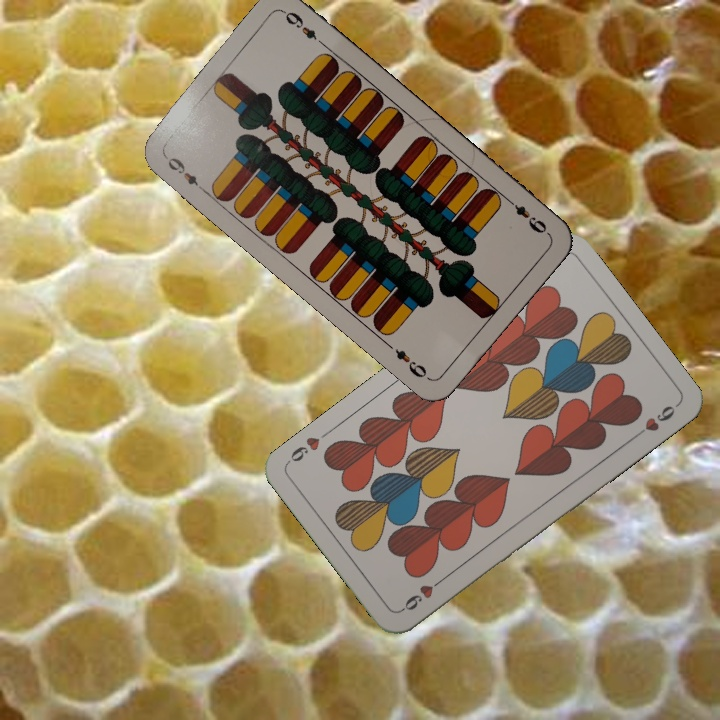E9: (503, 194, 552, 237), (162, 151, 208, 195)
H9: (397, 573, 447, 614)
